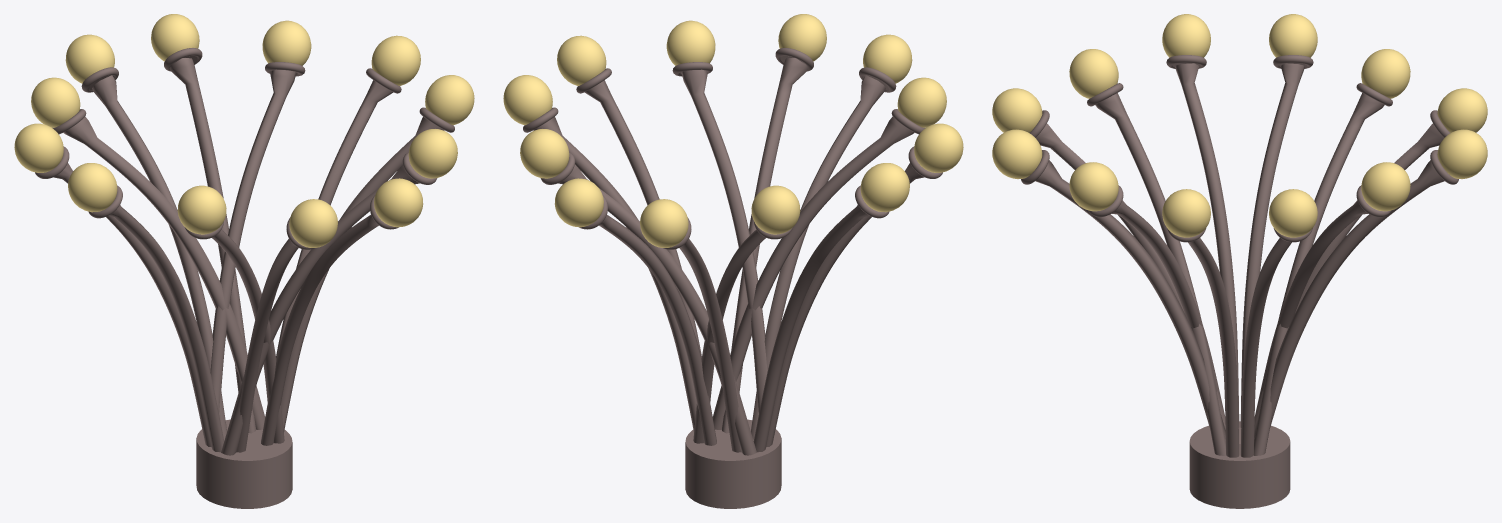
File: firefly lights.fbx
3 renders of one model, left to right at view 1: azimuth 30°, elevation 25°; view 2: azimuth 150°, elevation 25°; view 3: azimuth 270°, elevation 25°, orthographic.
Visible parts, largest first — view 1: NurbsPath.002, NurbsPath.001, NurbsPath, Circle; view 2: NurbsPath.002, NurbsPath.001, NurbsPath, Circle; view 3: NurbsPath, NurbsPath.002, NurbsPath.001, Circle.
Boxes of the visible parts, x1,y1,x2,y2 form: NurbsPath.002: (31,20,457,455); NurbsPath.001: (65,14,423,452); NurbsPath: (14,35,474,452); Circle: (196,419,292,508); NurbsPath.002: (520,20,946,455); NurbsPath.001: (554,14,912,452); NurbsPath: (503,35,963,452); Circle: (685,419,781,508); NurbsPath: (1162,14,1317,457); NurbsPath.002: (1069,49,1410,455); NurbsPath.001: (992,88,1487,440); Circle: (1189,421,1290,508).
Size of the model in its own units: 554 by 512 by 596.
